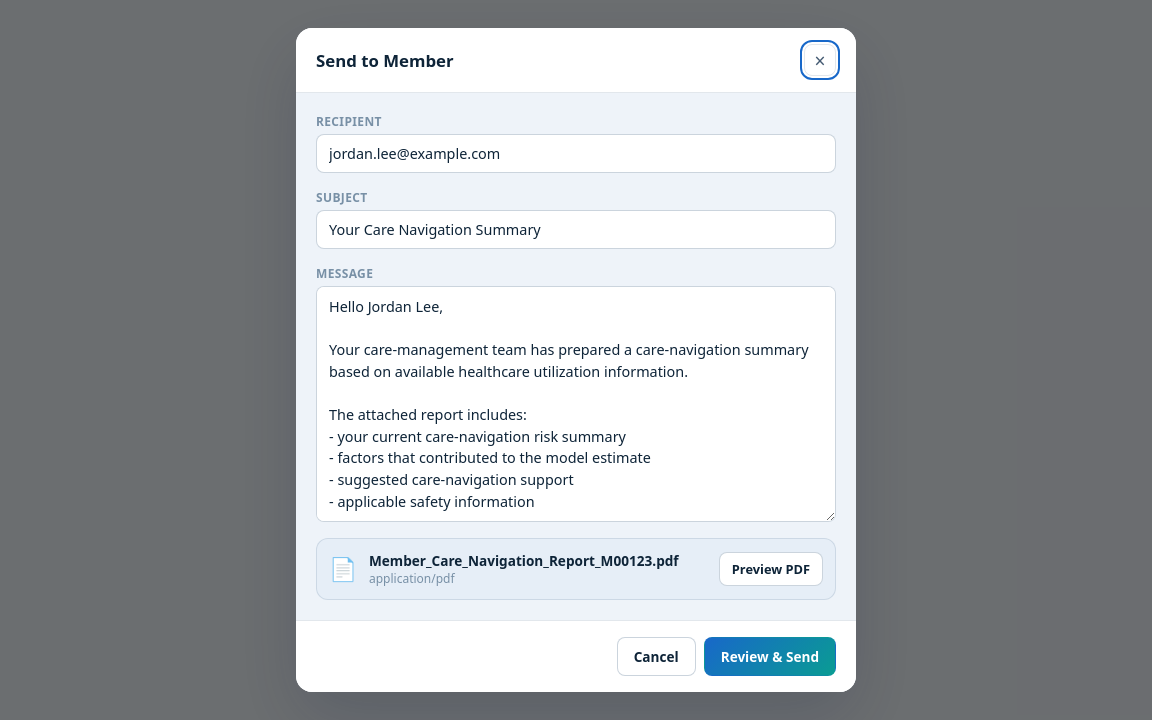
Test: EmailComposerModal › shows a clean failure message on send failure, never a stack trace
Click the button "Review & Send" at (770, 656), box [704, 637, 836, 676]
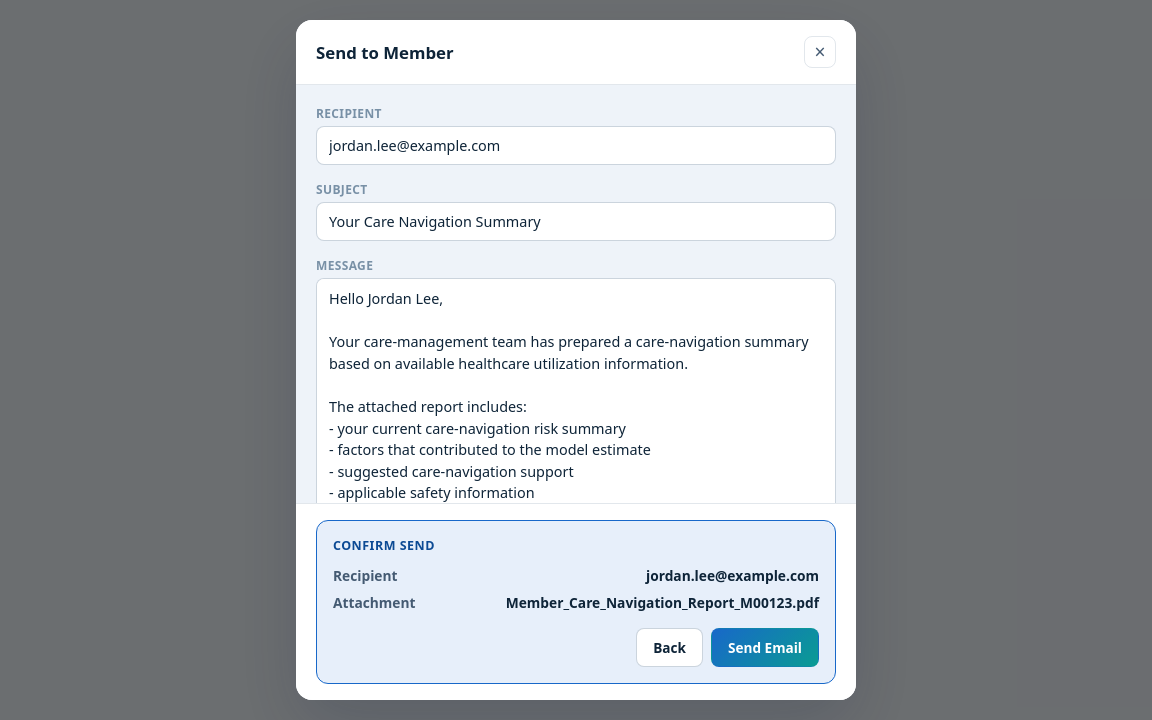
Click the button "Send Email" at (765, 648), box [711, 628, 819, 667]
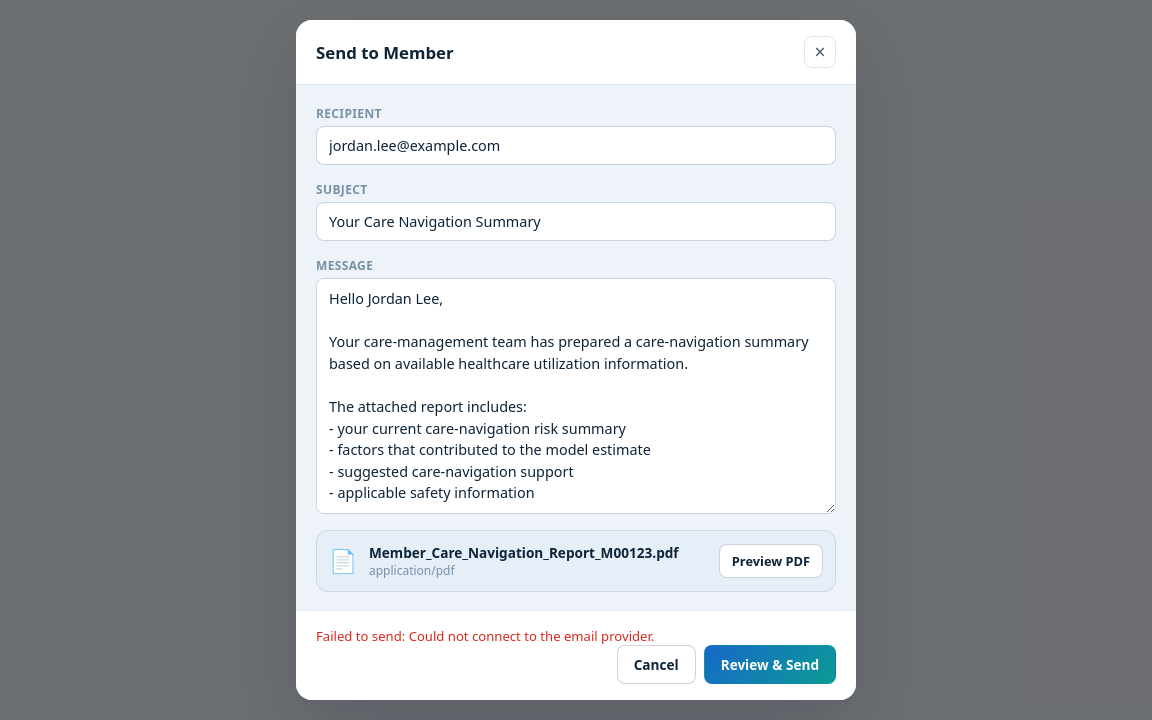
Check: the message reads "Failed to send: Could not connect to the email provider.", box [316, 627, 654, 645]
